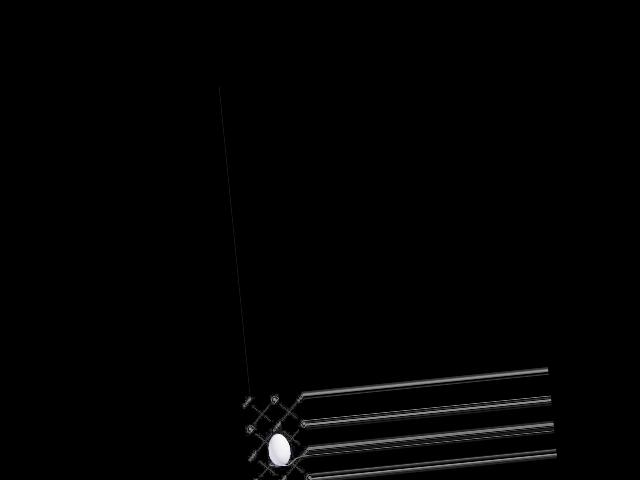egg: (267, 433, 292, 467)
